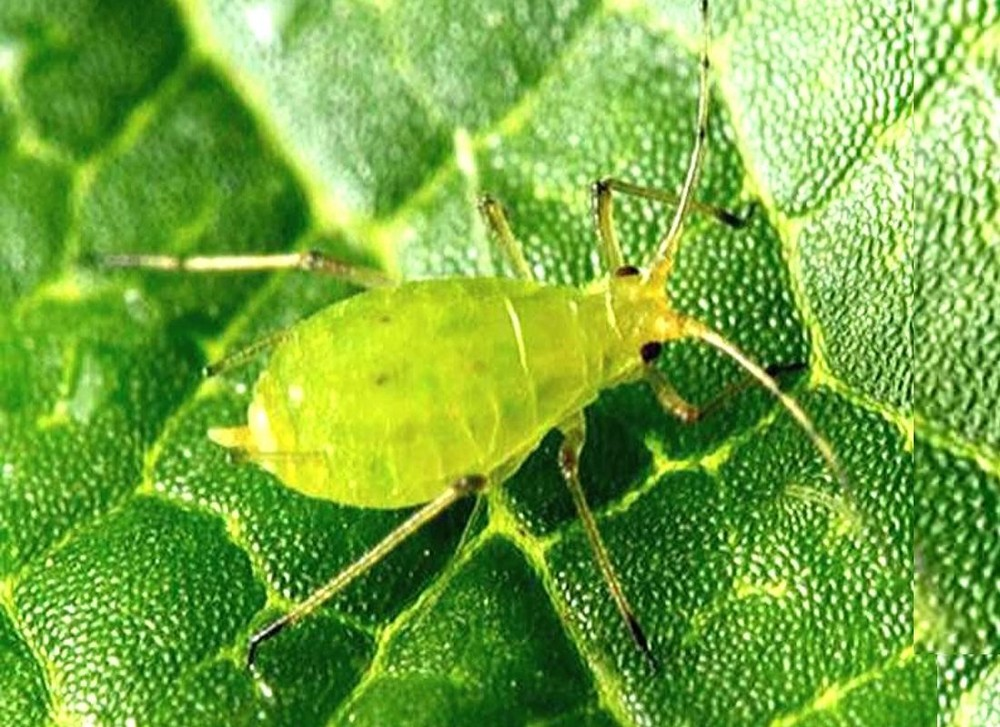Pulgon: (121, 130, 860, 657)
